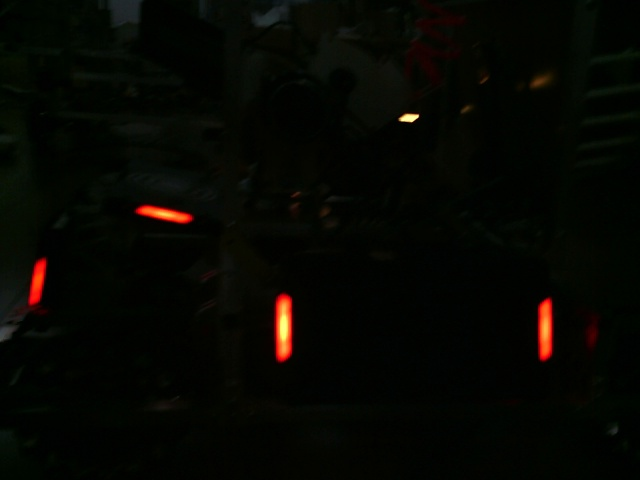lamp: (270, 295, 298, 362), (534, 302, 559, 364), (28, 258, 48, 309)
